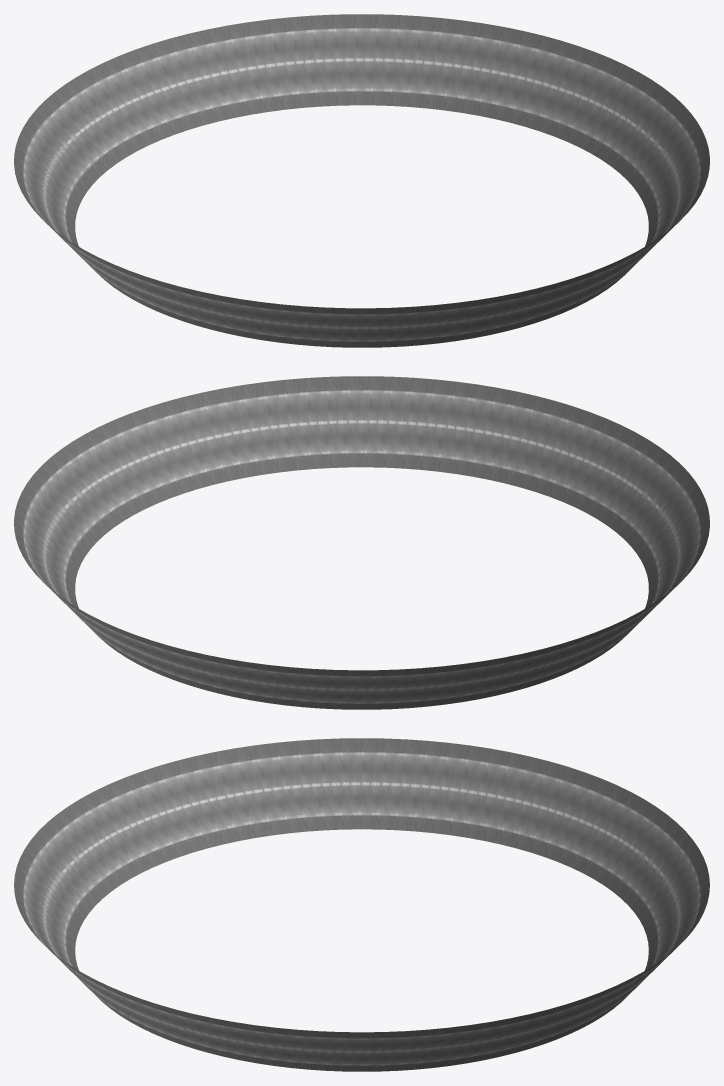
The model's file is road.obj.
3 renders of one model, top to bottom at view 1: azimuth 30°, elevation 25°; view 2: azimuth 150°, elevation 25°; view 3: azimuth 270°, elevation 25°, orthographic.
Parts seen in each view (by area): view 1: road; view 2: road; view 3: road.
Part boxes in pixels (x1,y1,x2,y2): road: (14, 14, 709, 347); road: (14, 376, 709, 709); road: (14, 738, 709, 1071).
Size of the model in its own units: 81.56 by 8.45 by 81.56.
1 material, 1 textured.
